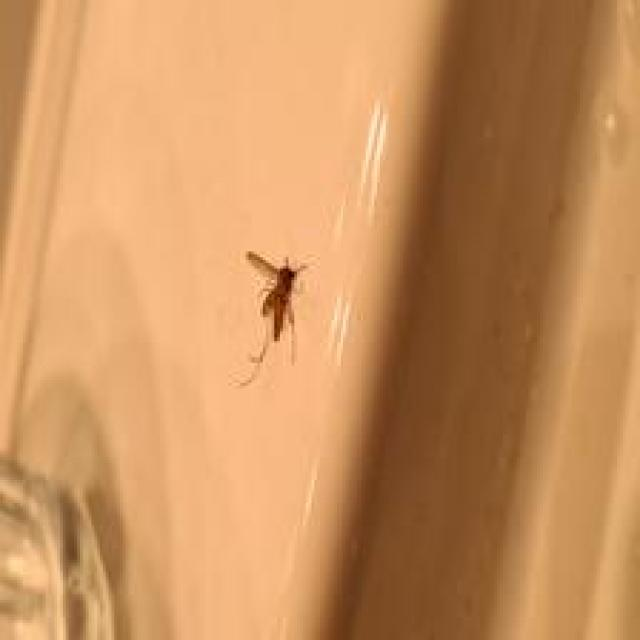Culex: (230, 248, 310, 386)
